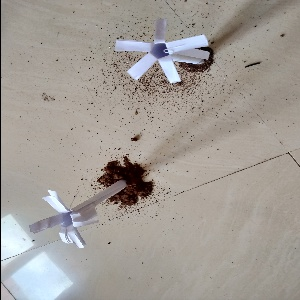weed: (29, 185, 135, 246), (116, 28, 208, 90)
